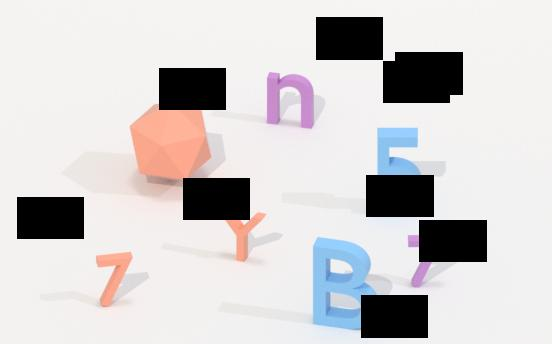5: (368, 125, 426, 220)
7: (91, 250, 139, 310), (403, 232, 450, 289)
Y-hoa: (212, 200, 272, 265)
b: (306, 238, 380, 330)
dagiac: (125, 102, 215, 185)
n: (260, 69, 319, 130)
